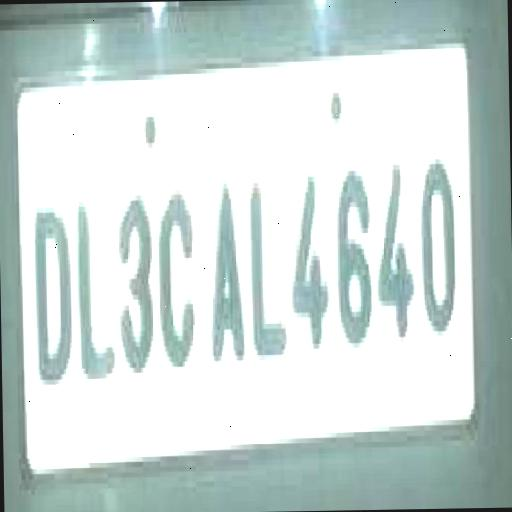number plate: (16, 48, 471, 458)
